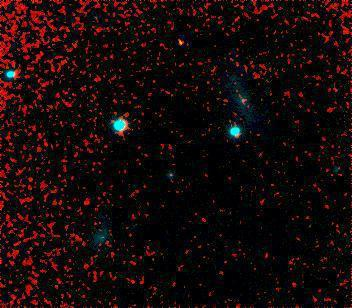star: (173, 23, 203, 53)
